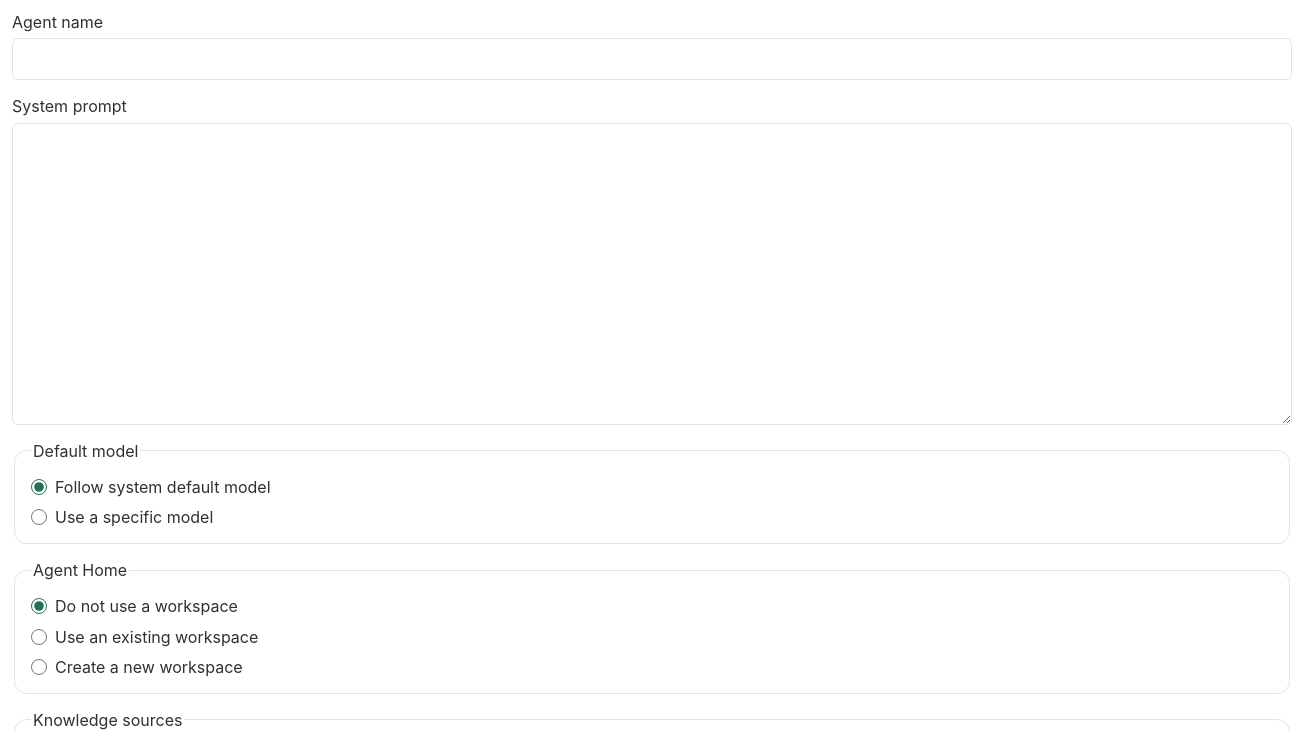
it: AgentForm › shows an explicit empty state when existing Home has no available workspace
Click the radio button labelled "Use an existing workspace". click: click(39, 637)
box: [31,629,47,645]
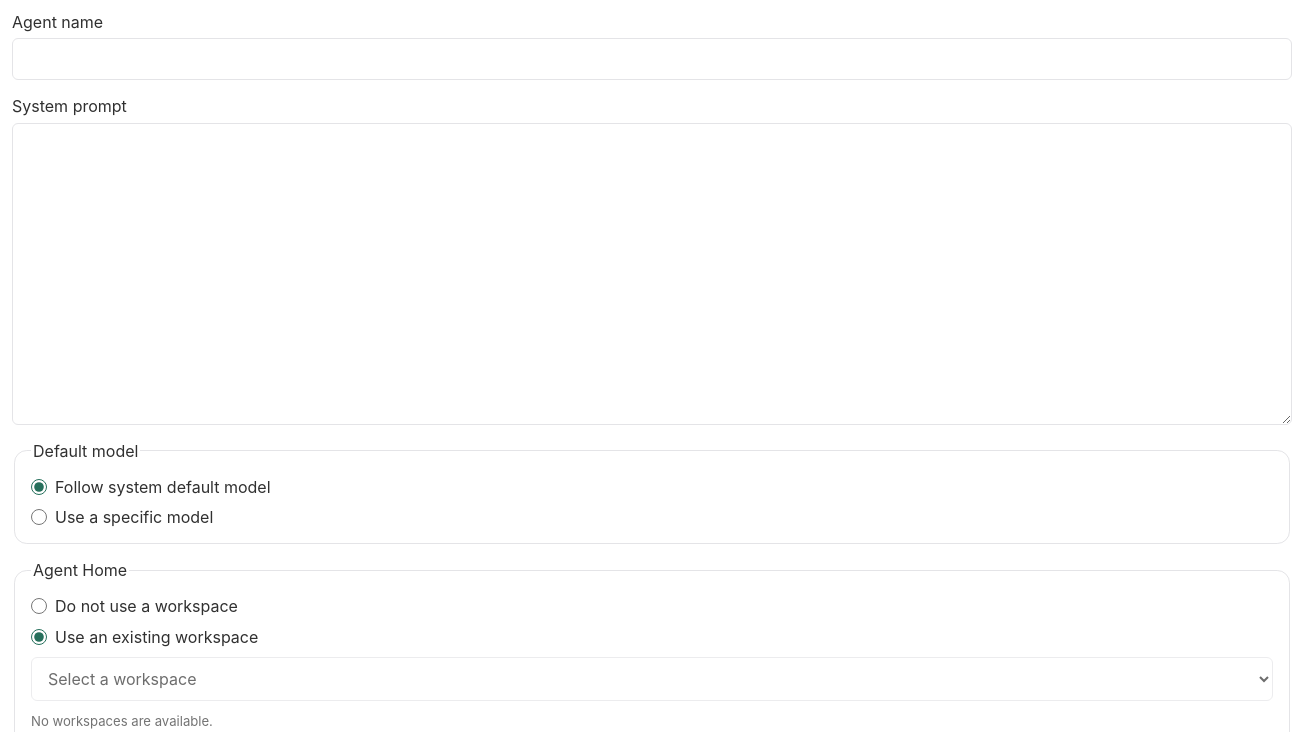
Expected: the text "No workspaces are available." is shown, [31,713,213,729]
Expected: the dropdown named "Workspace" is disabled, [31,657,1273,701]
